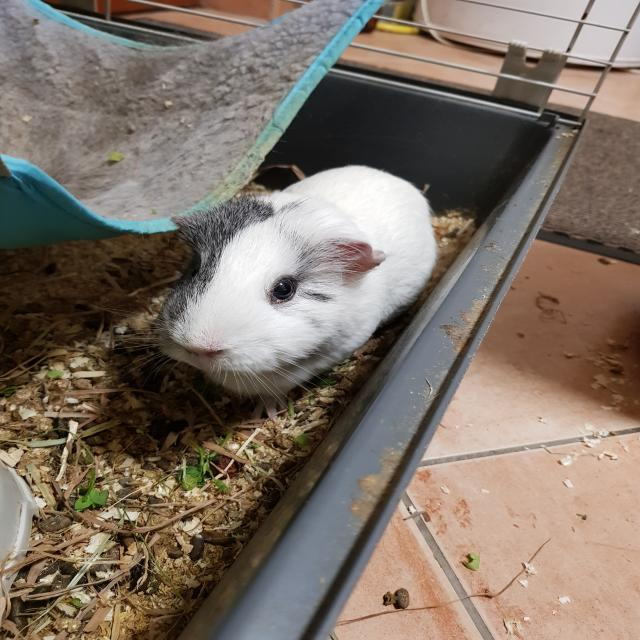guinea pig: (152, 162, 438, 422)
